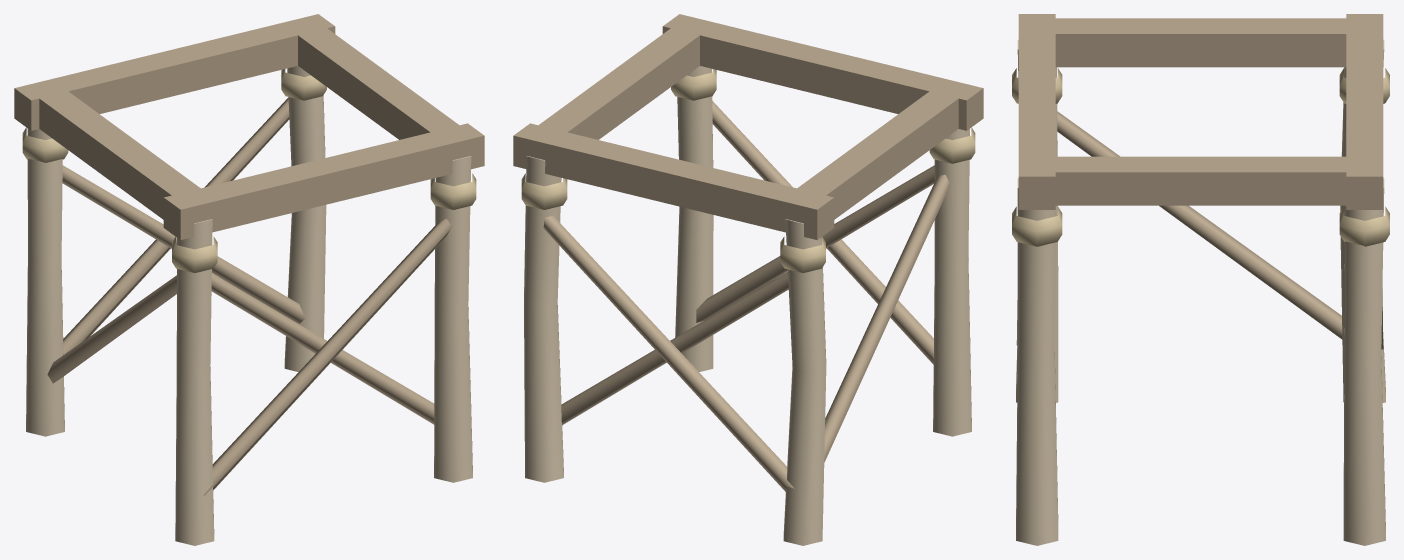
Rendered from building.stilts.glb.
3 views of the same model, side by side, from view 1: azimuth 30°, elevation 25°; view 2: azimuth 150°, elevation 25°; view 3: azimuth 270°, elevation 25° (orthographic). The views are drawn at different scales.
Parts seen in each view (by area): view 1: PaintDark, Paint, Rope; view 2: PaintDark, Paint, Rope; view 3: PaintDark, Paint, Rope.
Part boxes in pixels (x1=…): PaintDark: x1=14, y1=14, x2=484, y2=495; Paint: x1=26, y1=66, x2=472, y2=545; Rope: x1=22, y1=69, x2=476, y2=272; PaintDark: x1=513, y1=14, x2=983, y2=492; Paint: x1=524, y1=66, x2=971, y2=545; Rope: x1=521, y1=69, x2=975, y2=272; PaintDark: x1=1016, y1=14, x2=1383, y2=368; Paint: x1=1016, y1=39, x2=1385, y2=545; Rope: x1=1012, y1=68, x2=1389, y2=246.
Bounding box in the file's own units: 0.942 × 1 × 0.923.
